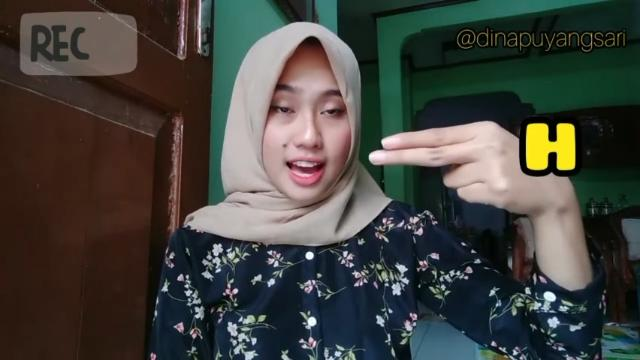H: (366, 120, 516, 216)
